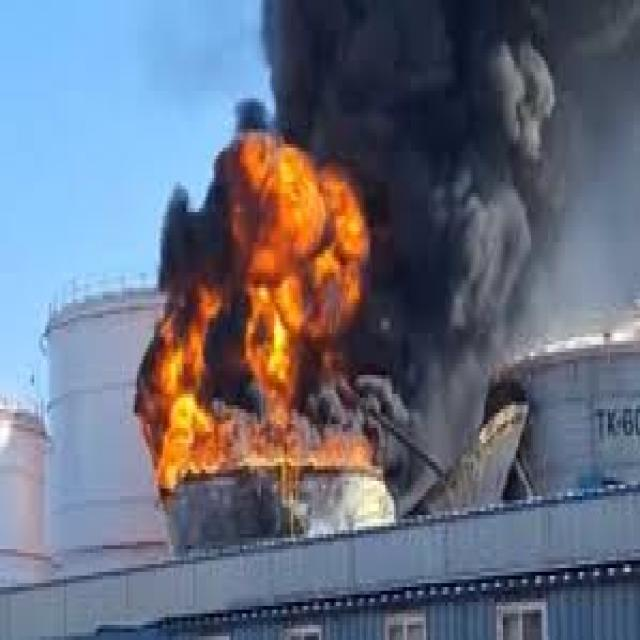explosion: (125, 71, 430, 521)
